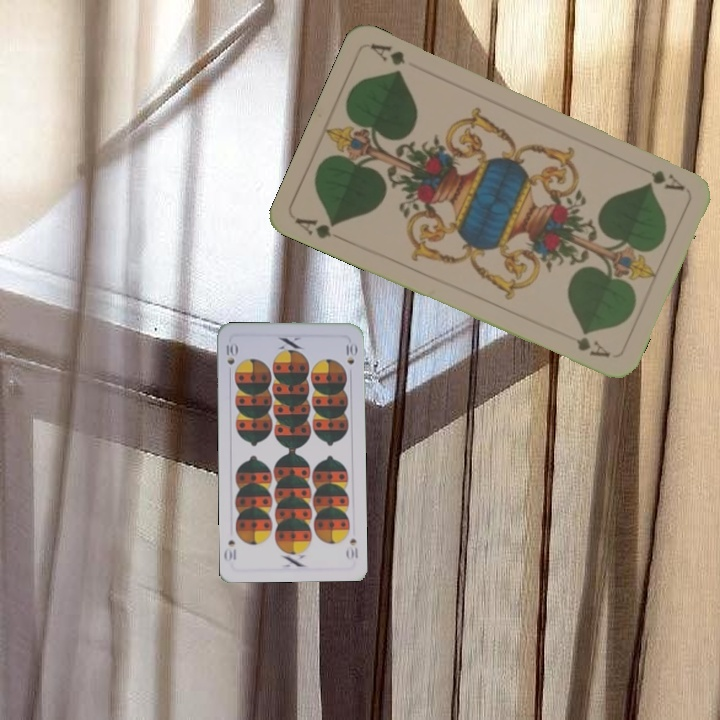GA: (632, 161, 688, 194), (291, 213, 340, 242)
S10: (222, 339, 239, 367), (343, 535, 360, 561)
